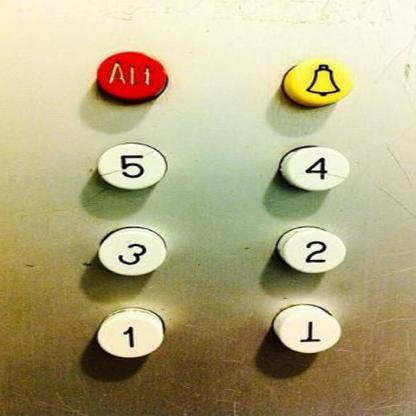1: (92, 305, 166, 359)
2: (272, 225, 349, 275)
3: (94, 225, 167, 279)
4: (275, 143, 351, 193)
5: (92, 141, 168, 190)
alarm: (278, 55, 354, 108)
unknown: (90, 48, 170, 108), (268, 301, 341, 355)
